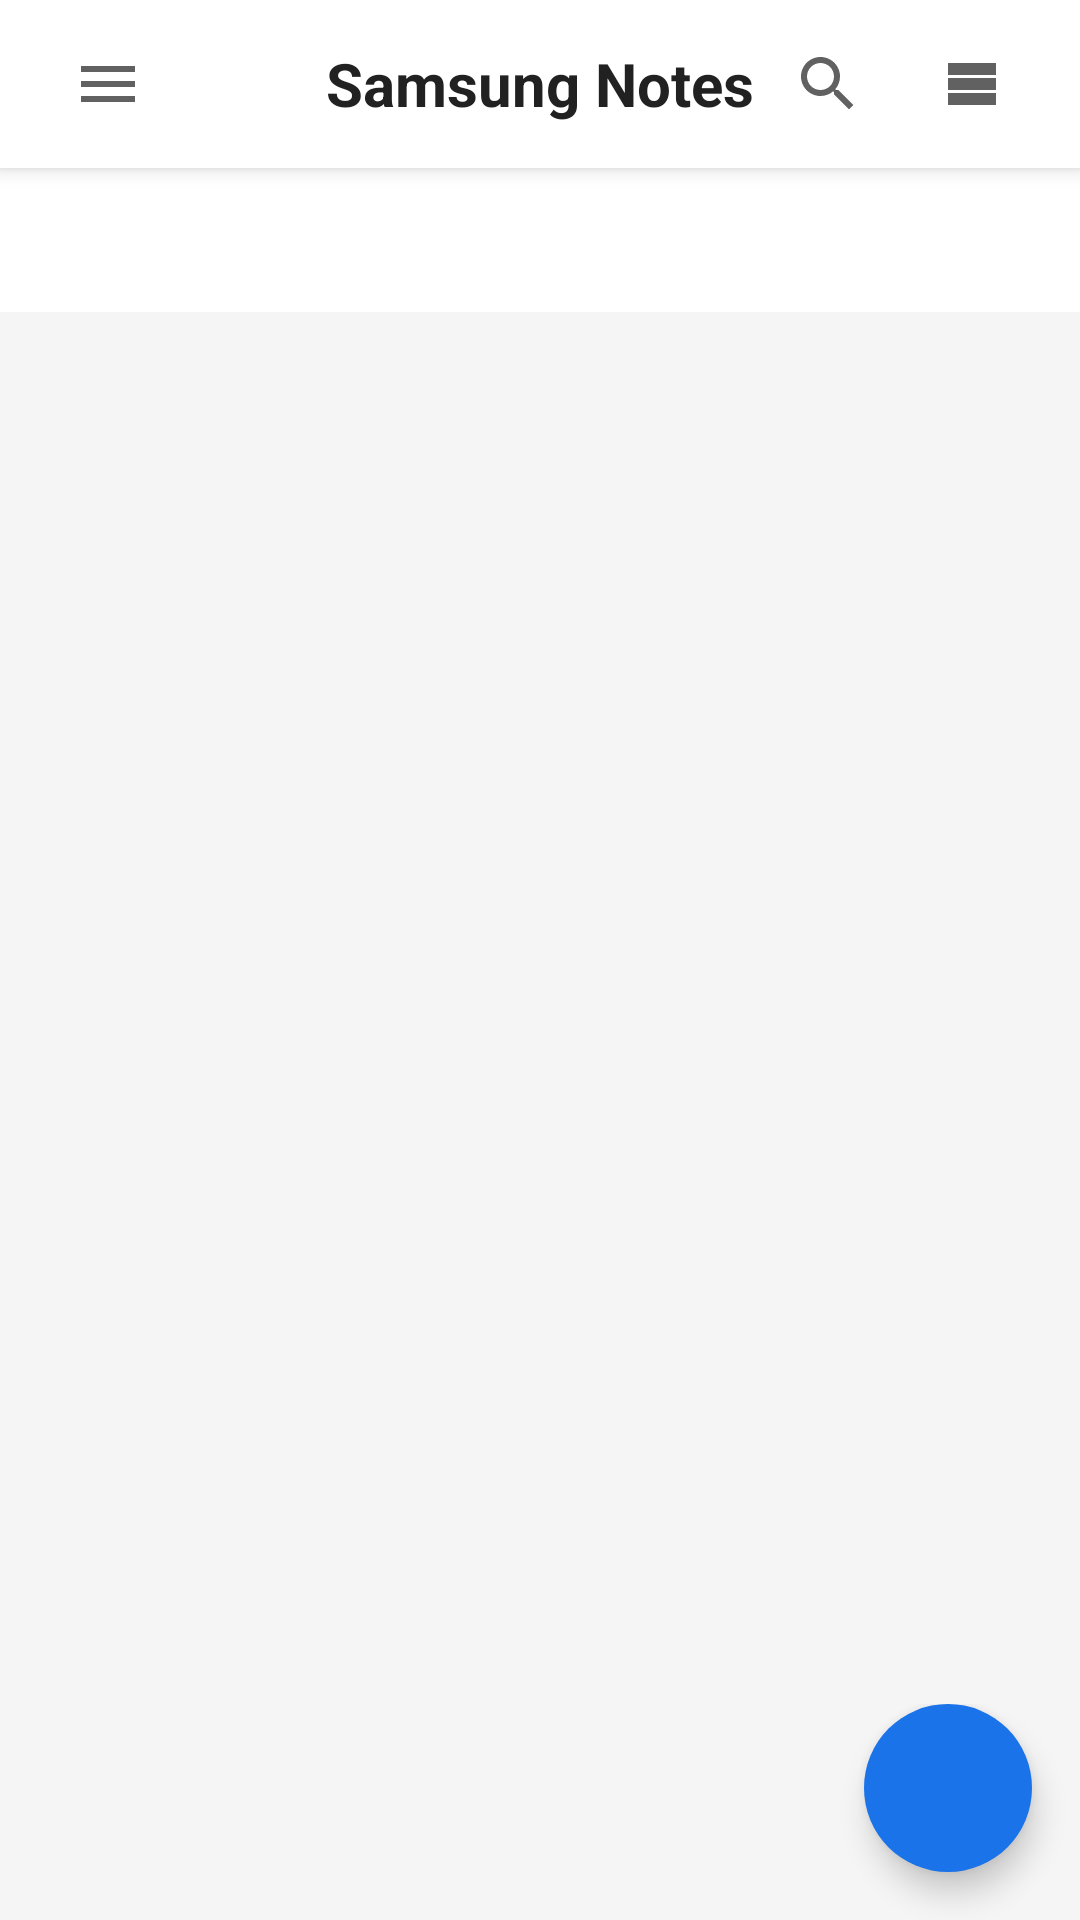

Locate icon controls on the screen. Image size 1080×1920, boxes as (x1, y1, x2, y2).
Menu: (81, 66, 135, 102)
Search: (801, 57, 853, 109)
